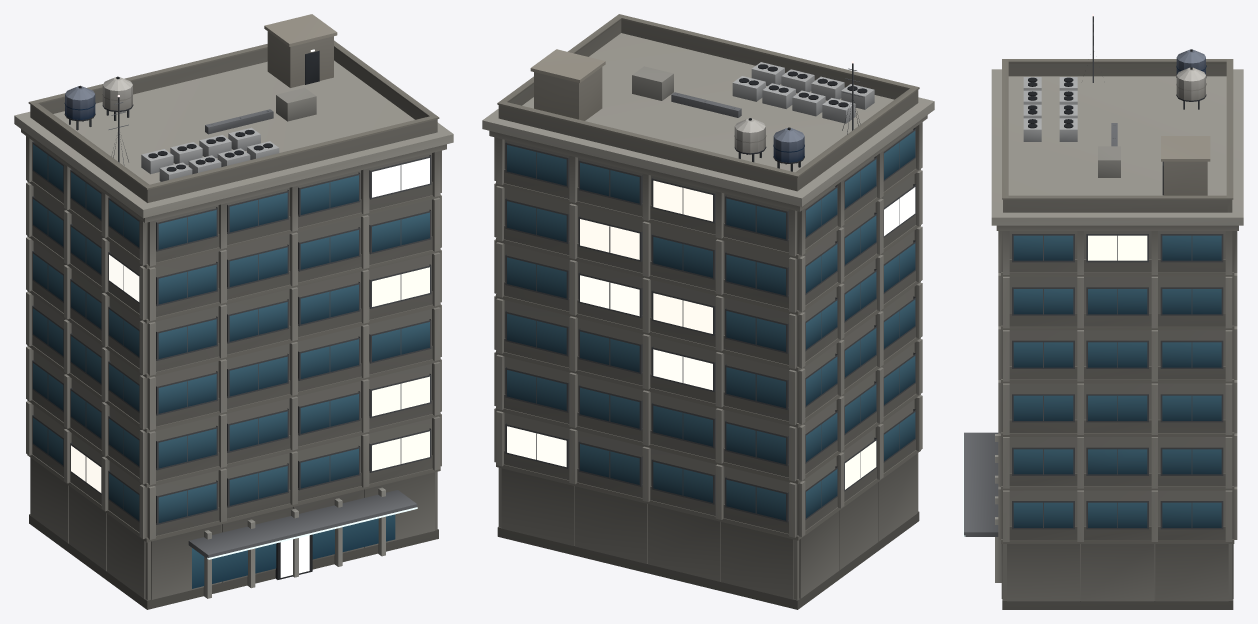
File: oficinas_a.glb
The picture shows the model from 3 angles, left to right: view 1: azimuth 30°, elevation 25°; view 2: azimuth 150°, elevation 25°; view 3: azimuth 270°, elevation 25°; orthographic projection. The views are drawn at different scales.
Visible parts, largest first — view 1: oficinas_a; view 2: oficinas_a; view 3: oficinas_a.
Boxes of the visible parts, <box> form: oficinas_a: <box>14,14,453,609</box>; oficinas_a: <box>482,14,934,609</box>; oficinas_a: <box>963,14,1243,609</box>.
Size of the model in its own units: 21.4 by 31.35 by 17.14.
